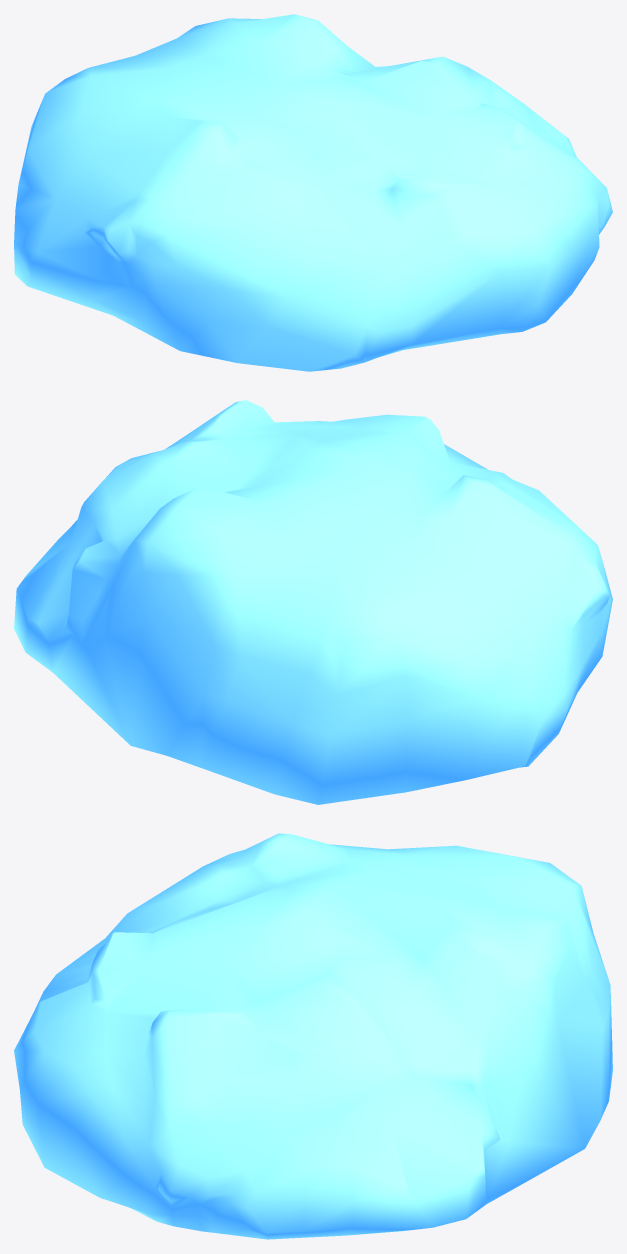
The model's file is debris_001.fbx.
The picture shows the model from 3 angles, top to bottom: view 1: azimuth 30°, elevation 25°; view 2: azimuth 150°, elevation 25°; view 3: azimuth 270°, elevation 25°; orthographic projection. The views are drawn at different scales.
Visible parts, largest first — view 1: debris.001; view 2: debris.001; view 3: debris.001.
Boxes of the visible parts, x1,y1,x2,y2 form: debris.001: (14,14,612,371); debris.001: (14,400,612,804); debris.001: (14,833,612,1239).
Size of the model in its own units: 21037 by 7976 by 19402.
